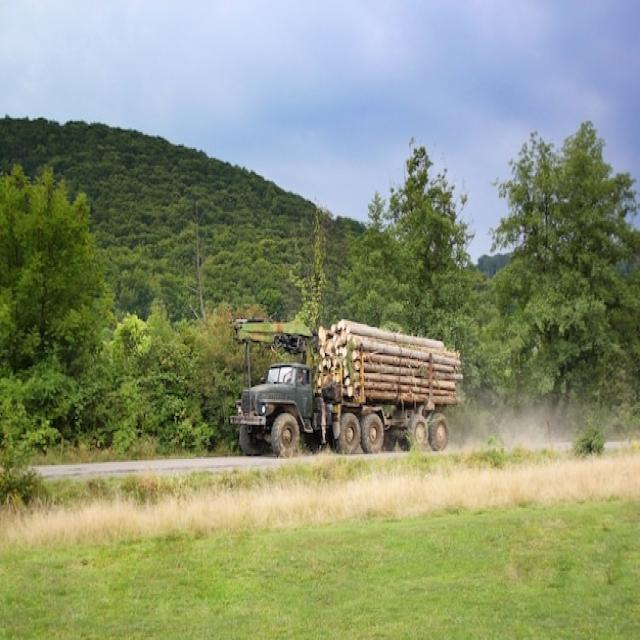Truck: (230, 316, 458, 460)
